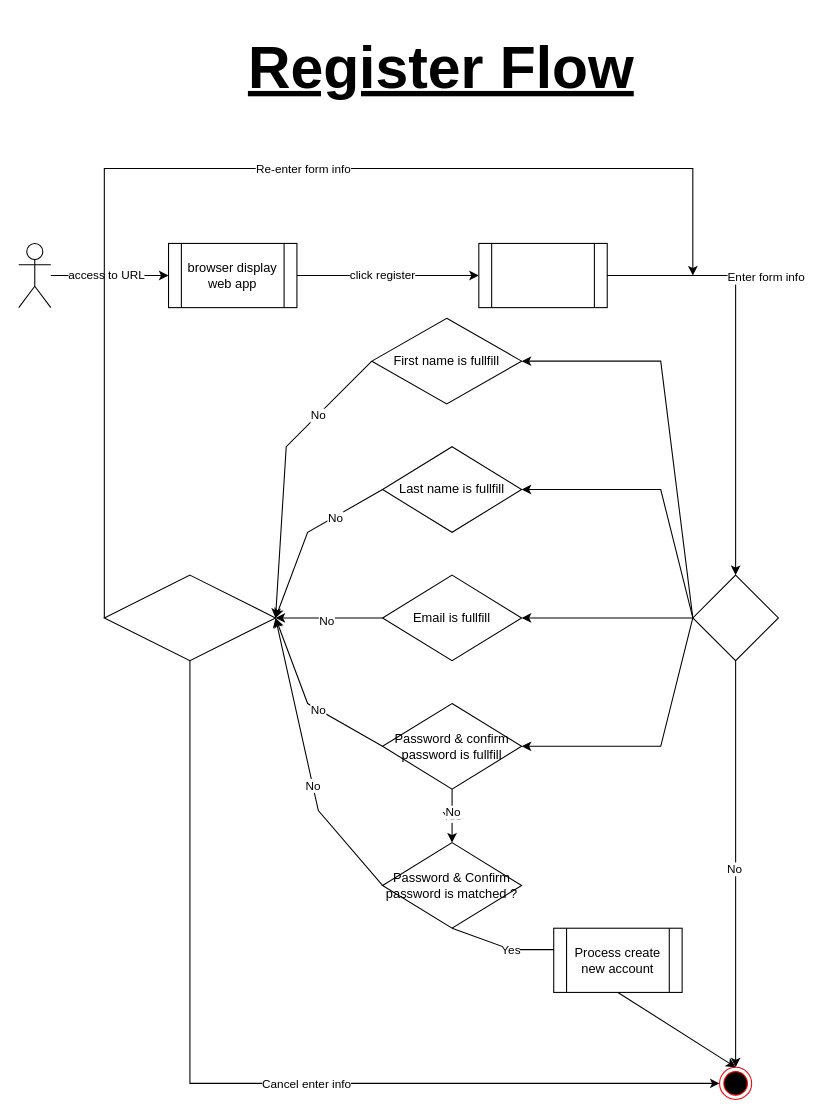
Some shapes in this 826 by 1118 pixel diagram are drawn without their labels. Each missing label, with the box of its shape:
Actor: (18, 242, 51, 308)
browser display register page: (478, 242, 607, 308)
Display error message and retry ?: (103, 574, 276, 661)
Submit ?: (692, 574, 778, 661)
